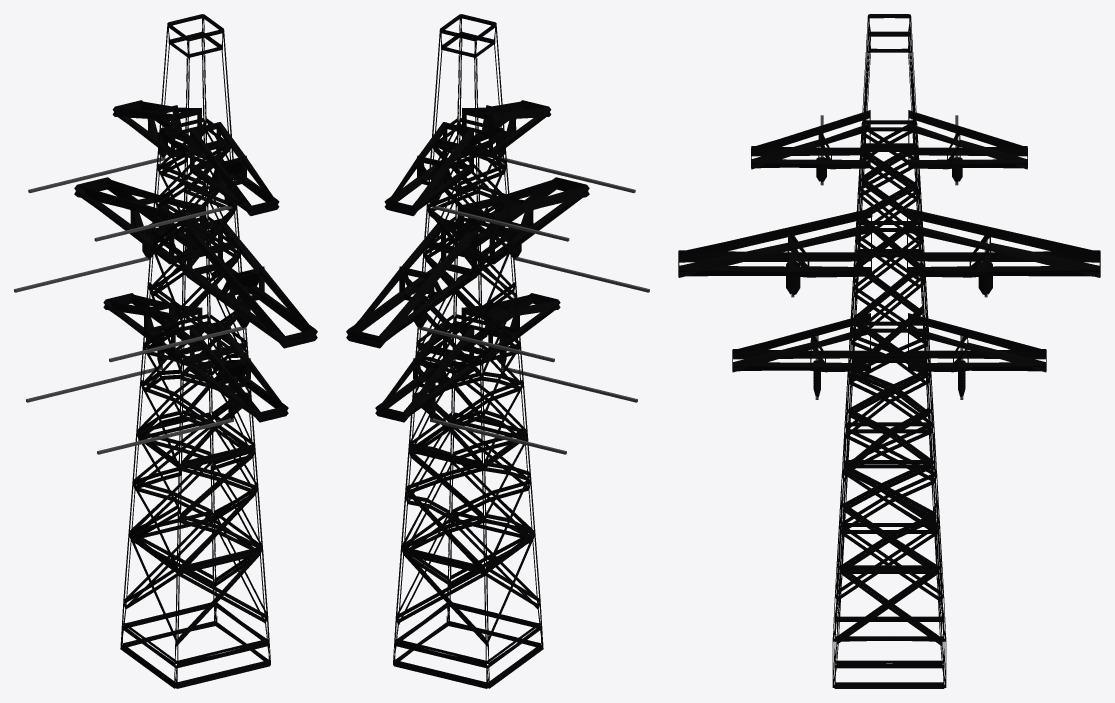
Rendered from powerPylon.fbx.
3 views of the same model, side by side, from view 1: azimuth 30°, elevation 25°; view 2: azimuth 150°, elevation 25°; view 3: azimuth 270°, elevation 25° (orthographic).
Visible parts, largest first — view 1: powerPylon_LOD0; view 2: powerPylon_LOD0; view 3: powerPylon_LOD0.
Boxes of the visible parts, x1,y1,x2,y2 form: powerPylon_LOD0: (14, 14, 317, 688); powerPylon_LOD0: (346, 14, 649, 688); powerPylon_LOD0: (678, 14, 1100, 688).
Size of what is drawn, in the model's own units: 37.56 by 125 by 74.29.
